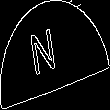N_S: (39, 26, 71, 84)
